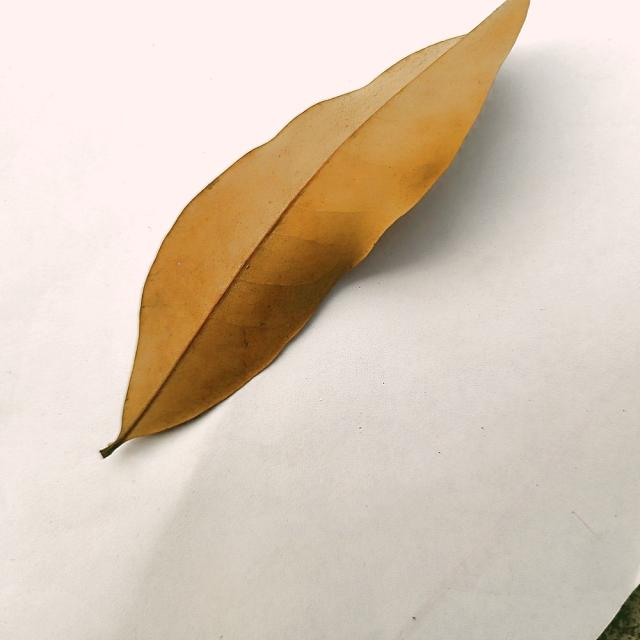Dry_Leaf-Lychee: (102, 0, 533, 456)
